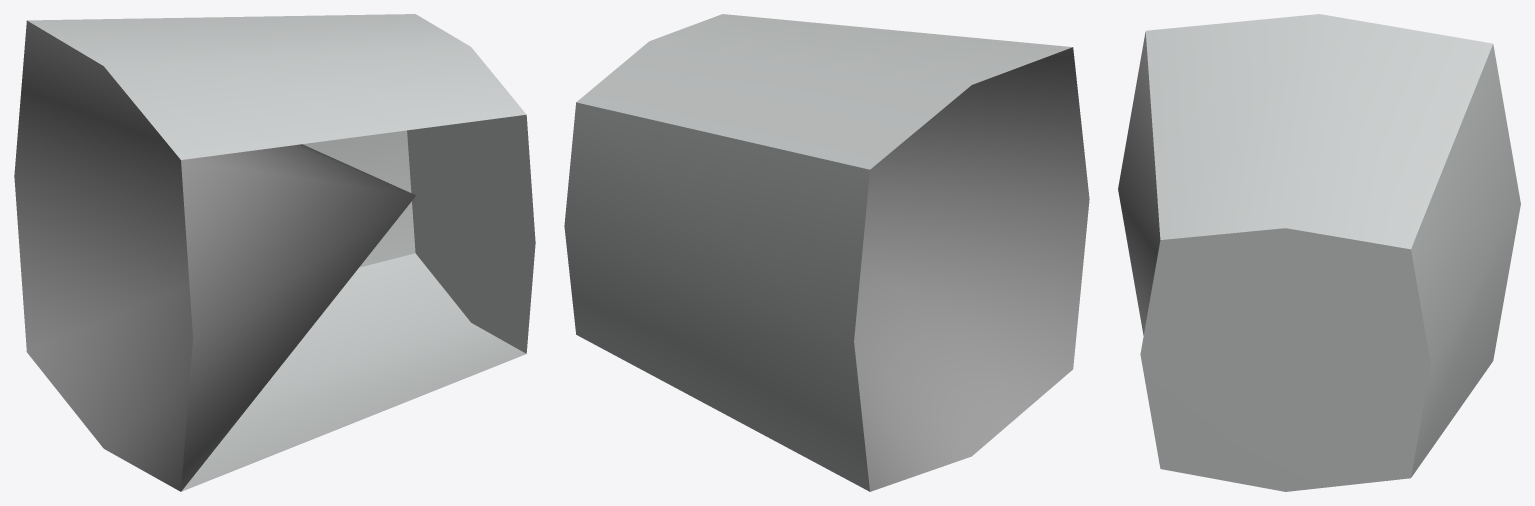
File: Trash 01.FBX
3 views of the same model, side by side, from view 1: azimuth 30°, elevation 25°; view 2: azimuth 150°, elevation 25°; view 3: azimuth 270°, elevation 25° (orthographic). The views are drawn at different scales.
Parts seen in each view (by area): view 1: Trash 01; view 2: Trash 01; view 3: Trash 01.
Part boxes in pixels (x1,y1,x2,y2): Trash 01: (14,14,535,491); Trash 01: (564,14,1089,491); Trash 01: (1118,14,1520,491).
Size of the model in its own units: 34.93 by 33.85 by 33.78.
1 material, 1 textured.
